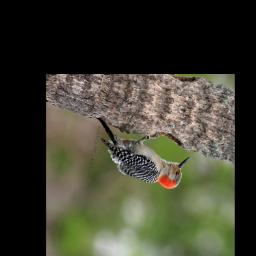Woodpecker: (80, 111, 195, 201)
